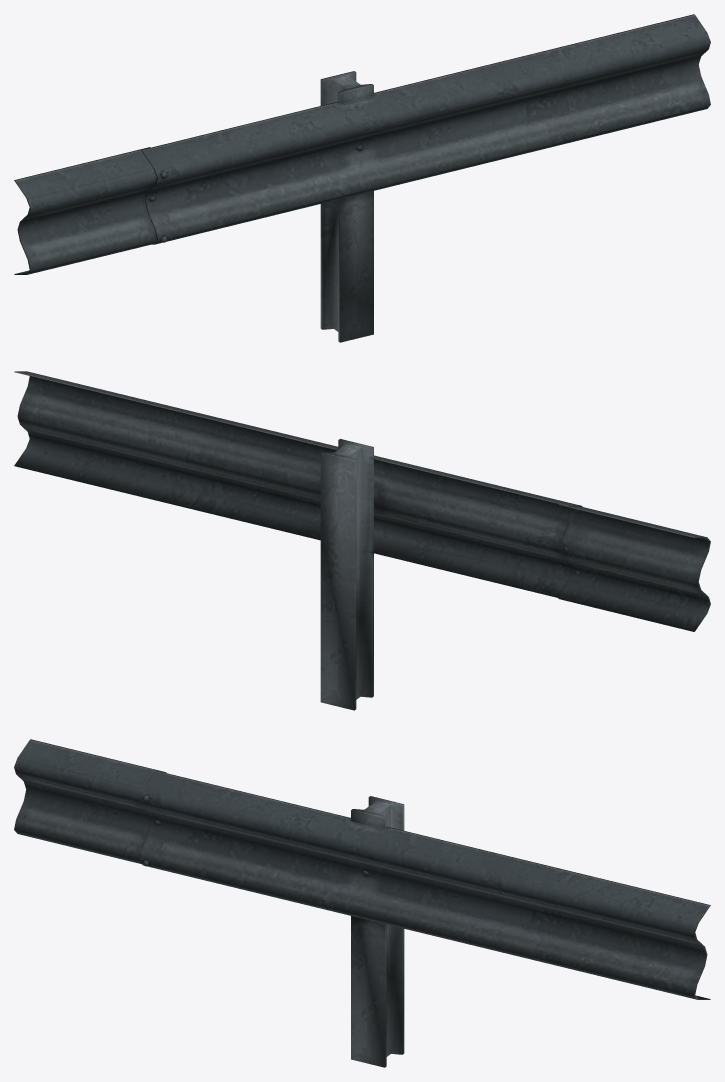
Rendered from Guardrail.glb.
3 renders of one model, top to bottom at view 1: azimuth 30°, elevation 25°; view 2: azimuth 150°, elevation 25°; view 3: azimuth 330°, elevation 25°, orthographic.
Parts seen in each view (by area): view 1: Guardrail.001; view 2: Guardrail.001; view 3: Guardrail.001.
Boxes of the visible parts, box(x1,y1,x2,y2) form: Guardrail.001: box(14, 14, 710, 342); Guardrail.001: box(14, 371, 710, 710); Guardrail.001: box(14, 739, 710, 1067).
Bounding box in the file's own units: 2 × 0.7 × 0.18.
Materials: 1 (1 with a texture image).
